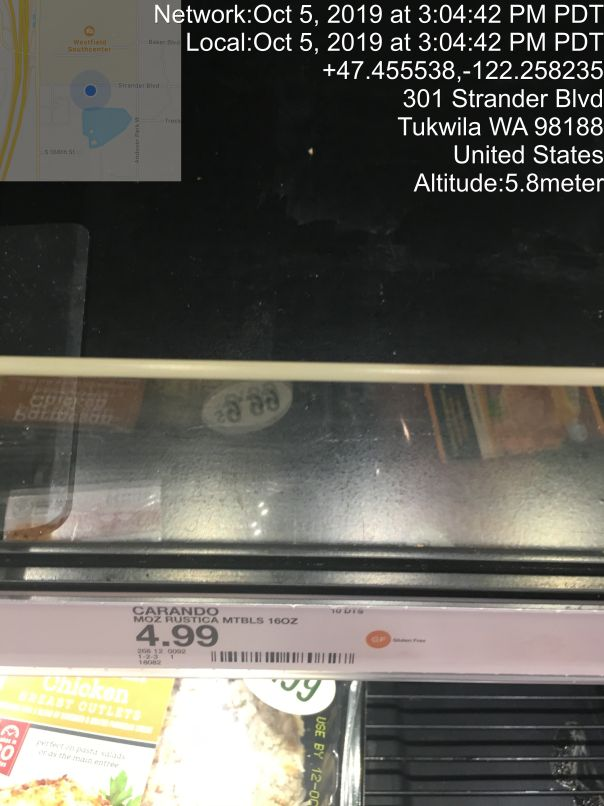Label: (118, 593, 425, 684)
Location: (391, 84, 604, 167)
Time: (151, 3, 604, 53)
Void: (38, 106, 540, 495)
